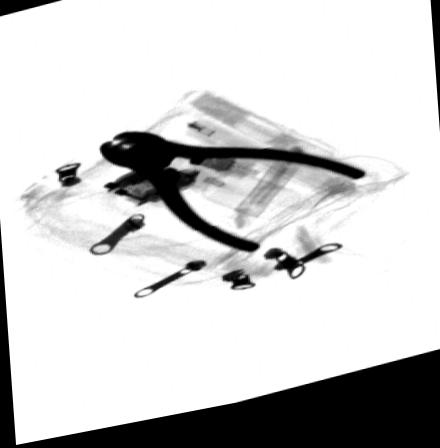Pliers: (95, 135, 370, 262)
